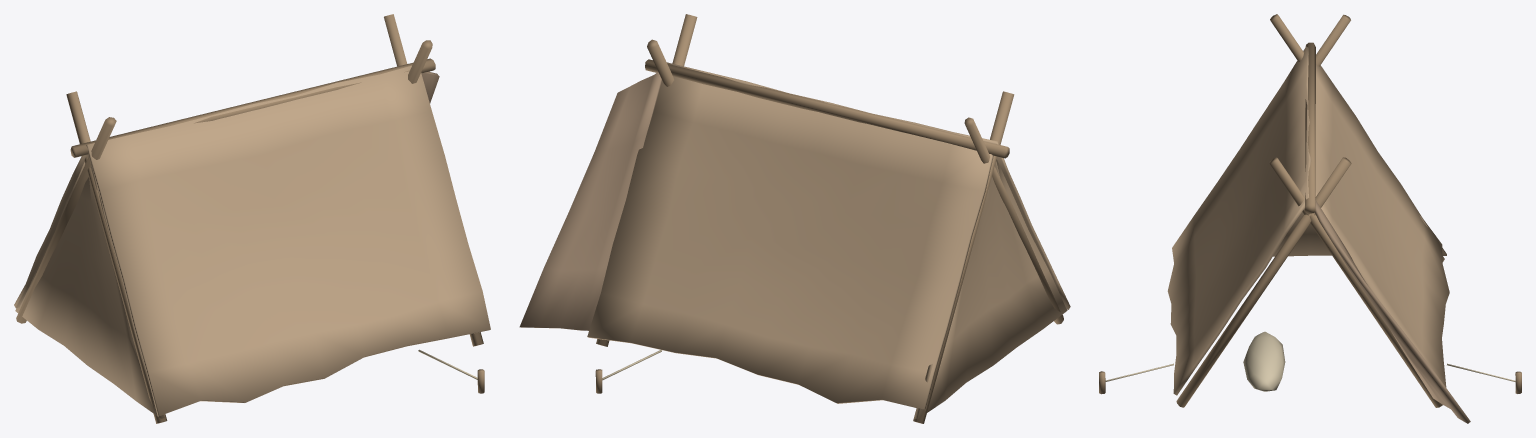
Rendered from camp_tent.glb.
The picture shows the model from 3 angles, left to right: view 1: azimuth 30°, elevation 25°; view 2: azimuth 150°, elevation 25°; view 3: azimuth 270°, elevation 25°; orthographic projection. The views are drawn at different scales.
Parts seen in each view (by area): view 1: roof, back, ridge, x1, x2, roof.001, x1.001, x2.001; view 2: roof.001, back, flap, ridge, roof, x2, x1, x2.001, x1.001; view 3: roof, roof.001, x1.001, flap, x2.001, roll, ridge, back, x1, x2.
Boxes of the visible parts, left/top/right/bottom form: roof: left=86, top=65, right=490, bottom=416; back: left=15, top=154, right=164, bottom=418; ridge: left=70, top=58, right=435, bottom=157; x1: left=66, top=91, right=167, bottom=423; x2: left=16, top=117, right=116, bottom=323; roof.001: left=14, top=155, right=87, bottom=308; x1.001: left=384, top=14, right=483, bottom=346; x2.001: left=408, top=40, right=432, bottom=83; roof.001: left=587, top=76, right=993, bottom=410; back: left=914, top=159, right=1067, bottom=419; flap: left=519, top=72, right=661, bottom=330; ridge: left=645, top=59, right=1009, bottom=158; roof: left=667, top=62, right=1070, bottom=309; x2: left=913, top=91, right=1014, bottom=423; x1: left=964, top=117, right=1063, bottom=324; x2.001: left=596, top=14, right=697, bottom=346; x1.001: left=647, top=39, right=673, bottom=86; roof: left=1167, top=46, right=1311, bottom=395; roof.001: left=1315, top=64, right=1449, bottom=387; x1.001: left=1176, top=157, right=1351, bottom=407; flap: left=1314, top=199, right=1470, bottom=423; x2.001: left=1269, top=157, right=1442, bottom=407; roll: left=1243, top=331, right=1285, bottom=391; ridge: left=1305, top=42, right=1315, bottom=213; back: left=1273, top=212, right=1446, bottom=256; x1: left=1316, top=14, right=1350, bottom=66; x2: left=1270, top=14, right=1444, bottom=261.
Size of the model in its own units: 3.31 by 2.14 by 3.25.
